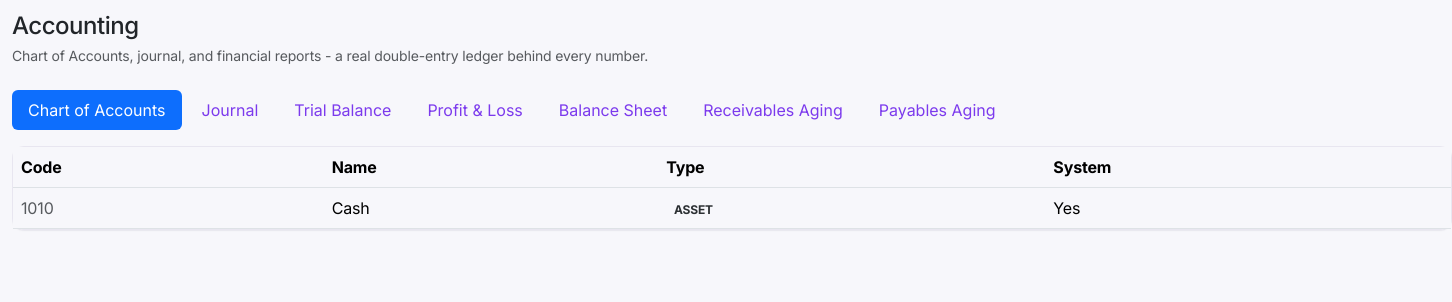
Test: switching tabs after the Chart of Accounts has loaded (the real user sequence) › Payables Aging: no render exception, and it shows its own content once its response arrives
Expected: the text "Cash" is shown, [324, 187, 658, 228]
Click the button "Payables Aging" at {"x": 937, "y": 110}, box [863, 90, 1012, 130]
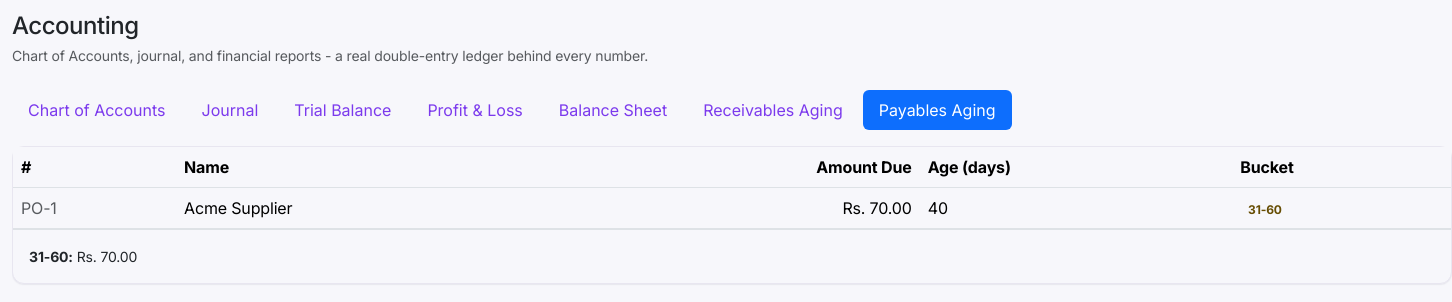
Now the text "Acme Supplier" is shown, box [176, 187, 568, 228]
